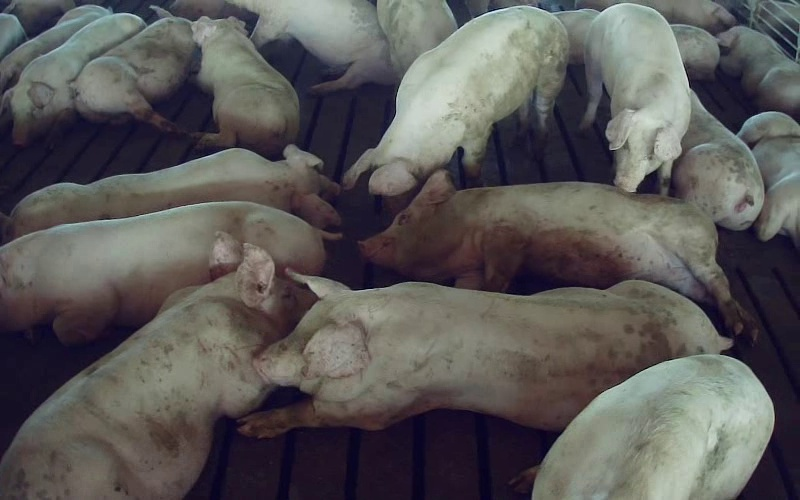pig: (0, 233, 313, 499), (239, 272, 731, 436), (360, 170, 756, 337), (0, 201, 339, 344), (532, 355, 773, 499), (0, 145, 339, 239), (580, 3, 690, 194), (3, 13, 145, 146), (72, 6, 195, 133), (229, 0, 395, 94), (192, 17, 298, 156), (672, 91, 763, 229), (738, 113, 799, 249), (717, 26, 799, 117)
